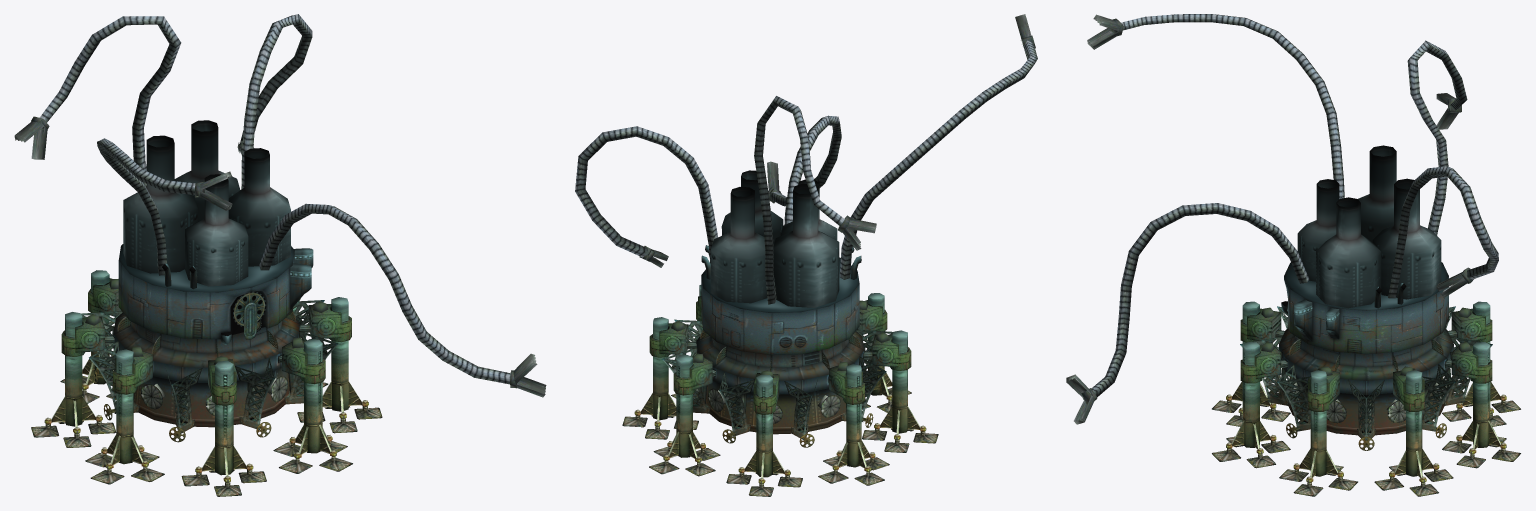
Rendered from Metal Shambler.fbx.
3 renders of one model, left to right at view 1: azimuth 30°, elevation 25°; view 2: azimuth 150°, elevation 25°; view 3: azimuth 270°, elevation 25°, orthographic. The views are drawn at different scales.
Parts seen in each view (by area): view 1: Body, Legs, Arms; view 2: Body, Arms, Legs; view 3: Body, Arms, Legs.
Part boxes in pixels (box(x1,y1,x2,y2)): Body: box(61, 120, 351, 442); Legs: box(31, 270, 382, 496); Arms: box(14, 14, 546, 397); Body: box(649, 170, 911, 447); Arms: box(575, 14, 1037, 304); Legs: box(622, 285, 938, 496); Body: box(1240, 145, 1492, 450); Arms: box(1066, 14, 1498, 424); Legs: box(1212, 301, 1520, 496).
Bounding box in the file's own units: 1598 × 1685 × 1892.
Materials: 1 (1 with a texture image).
